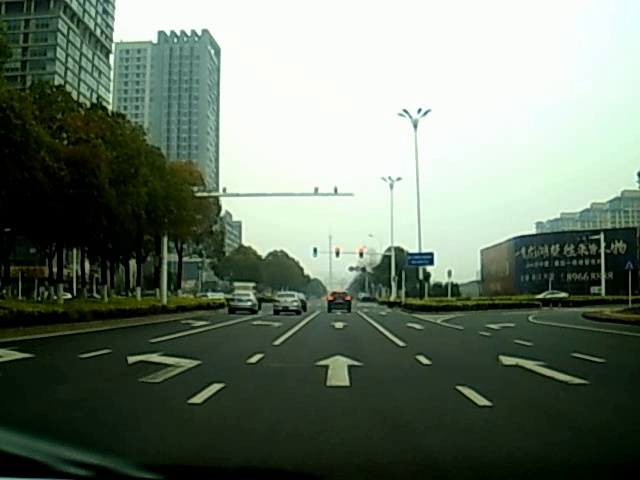Traffic_Light_stop: (356, 248, 366, 263), (334, 248, 341, 262)
